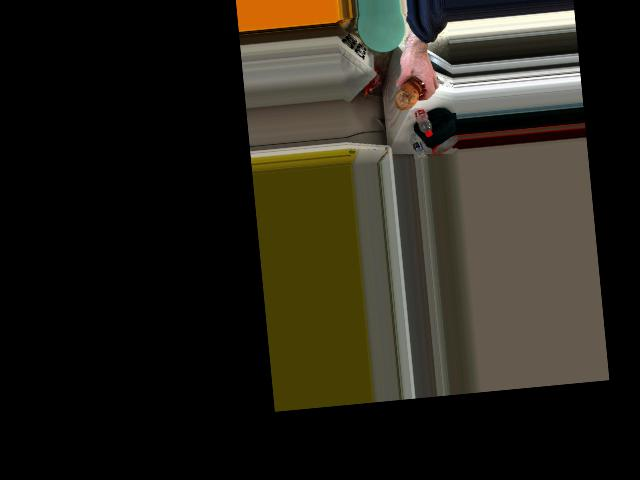sweet_potato: (393, 75, 423, 111)
